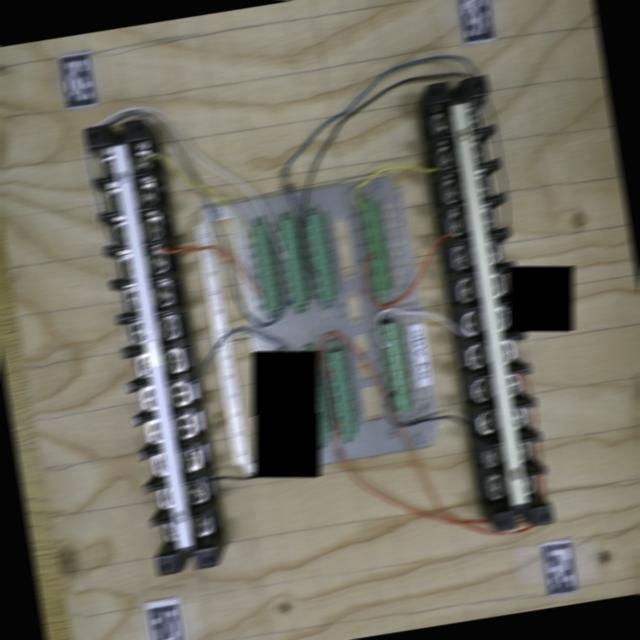Flathead_Block: (426, 76, 557, 530)
Phillips_Block: (84, 119, 219, 575)
Terminal_1: (359, 200, 394, 293), (379, 321, 414, 414)
Terminal_2: (299, 355, 333, 443), (304, 212, 338, 300), (325, 350, 359, 437), (276, 218, 310, 305), (249, 224, 282, 311)
